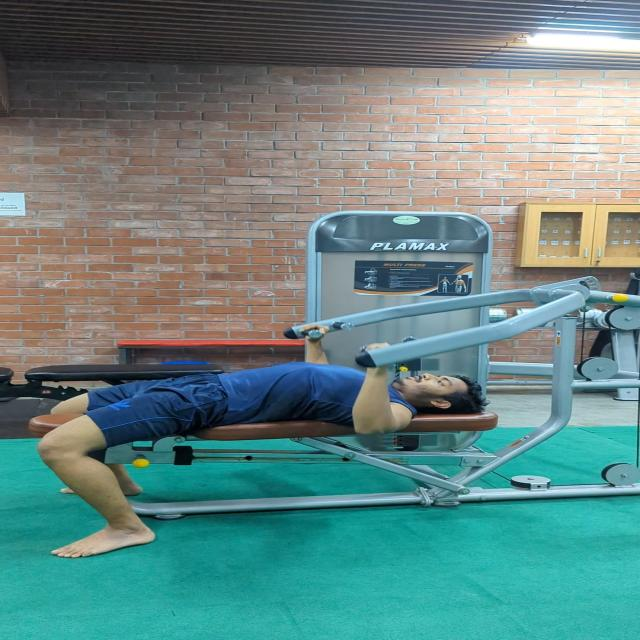Normal_BrenchPress: (30, 262, 518, 584)
